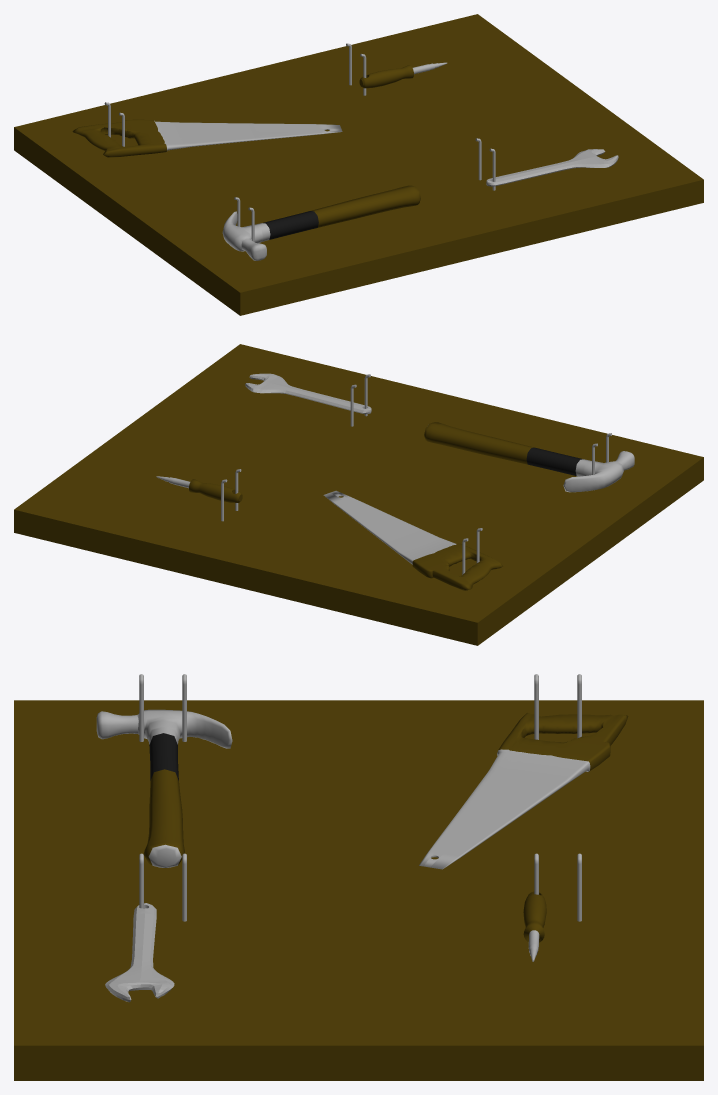
File: toolBoard.fbx
The picture shows the model from 3 angles, top to bottom: view 1: azimuth 30°, elevation 25°; view 2: azimuth 150°, elevation 25°; view 3: azimuth 270°, elevation 25°; orthographic projection. The views are drawn at different scales.
Parts seen in each view (by area): view 1: pCube160, pCube159, pCube149, pCube148, pCylinder53; view 2: pCube160, pCube159, pCube149, pCube148, pCylinder53; view 3: pCube160, pCube159, pCube149, pCube148, pCylinder53.
Part boxes in pixels (bbox=[...]): pCube160: bbox=[14, 14, 703, 315]; pCube159: bbox=[72, 119, 342, 157]; pCube149: bbox=[222, 185, 420, 260]; pCube148: bbox=[486, 149, 618, 186]; pCylinder53: bbox=[359, 62, 447, 88]; pCube160: bbox=[14, 344, 703, 645]; pCube159: bbox=[323, 490, 502, 590]; pCube149: bbox=[424, 422, 634, 492]; pCube148: bbox=[245, 373, 371, 414]; pCylinder53: bbox=[156, 476, 242, 502]; pCube160: bbox=[14, 700, 703, 1080]; pCube159: bbox=[419, 713, 628, 869]; pCube149: bbox=[96, 709, 232, 867]; pCube148: bbox=[105, 903, 174, 1002]; pCylinder53: bbox=[523, 891, 546, 961].
Size of the model in its own units: 20.96 by 2.82 by 17.71.
